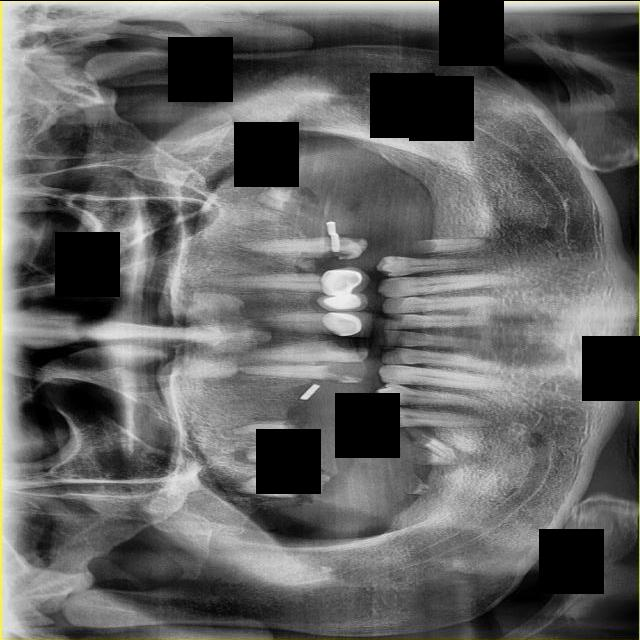72: (395, 423, 461, 480), (256, 178, 312, 216), (401, 471, 433, 502), (271, 254, 324, 271)
NucleOSS Implant: (368, 404, 392, 425)
Sterngold Implant: (283, 472, 331, 499), (323, 362, 363, 383), (327, 340, 366, 359), (304, 444, 333, 468), (282, 421, 312, 440), (410, 238, 435, 253), (317, 249, 353, 259), (324, 236, 361, 244), (295, 270, 325, 278), (392, 269, 405, 277), (390, 255, 402, 260), (388, 405, 400, 410), (384, 399, 397, 403)
Zimmer Implant: (317, 262, 372, 297), (323, 310, 370, 337), (316, 292, 369, 312)
